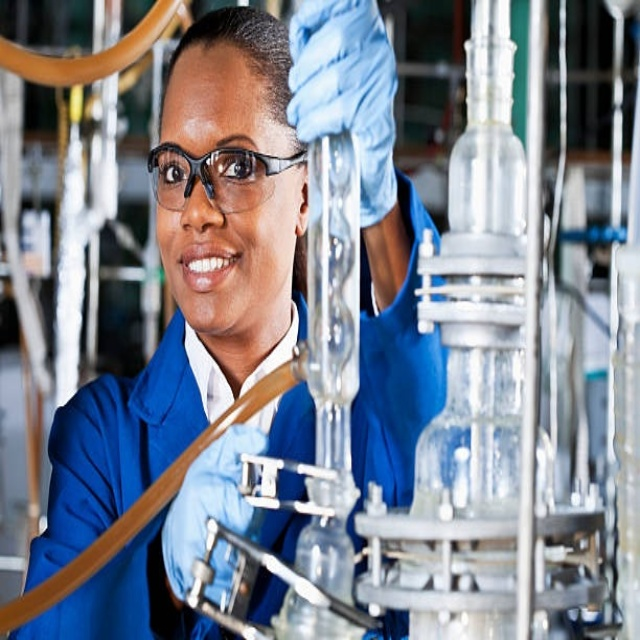Gafas: (147, 143, 308, 213)
Guantes: (284, 2, 400, 229), (161, 421, 273, 610)
Sin_mascara: (168, 234, 248, 314)
